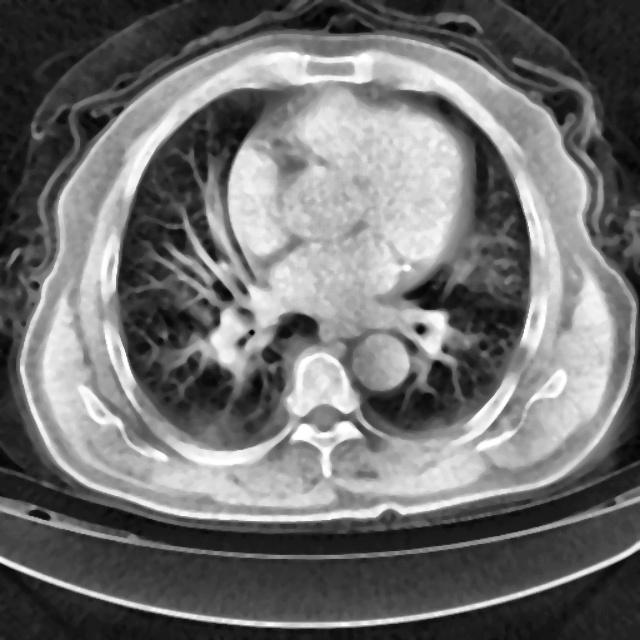covid: (6, 8, 637, 533)
